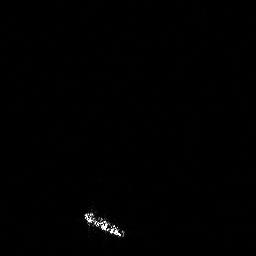ship: (81, 207, 127, 241)
